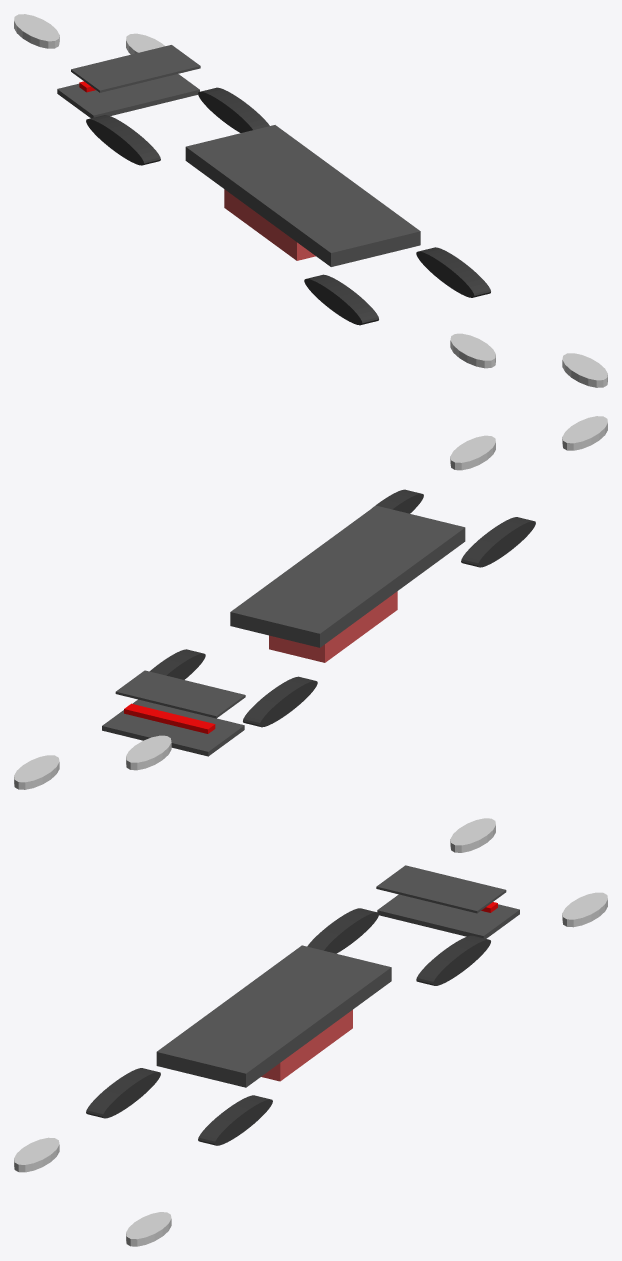
File: gt3_car.glb
3 views of the same model, one above another, from view 1: azimuth 30°, elevation 25°; view 2: azimuth 150°, elevation 25°; view 3: azimuth 330°, elevation 25° (orthographic).
Visible parts, largest first — view 1: Cockpit, Diffuser, Spoiler, Wheel_RL, Wheel_FL, Wheel_FR, Wheel_RR, Body, Rim_0, Rim_1, Rim_2, Rim_3; view 2: Cockpit, Diffuser, Spoiler, Body, Wheel_FL, Wheel_RL, Rim_1, Rim_2, Rim_0, Rim_3, BrakeLight, Wheel_RR (+1 smaller); view 3: Cockpit, Diffuser, Spoiler, Wheel_RR, Wheel_FL, Wheel_FR, Wheel_RL, Body, Rim_1, Rim_2, Rim_0, Rim_3.
Part boxes in pixels (x1,y1,x2,y2): Cockpit: [185, 125, 420, 266]; Diffuser: [57, 74, 199, 118]; Spoiler: [71, 45, 200, 92]; Wheel_RL: [86, 115, 160, 165]; Wheel_FL: [304, 274, 378, 325]; Wheel_FR: [416, 247, 490, 297]; Wheel_RR: [198, 87, 269, 132]; Body: [224, 189, 315, 260]; Rim_0: [450, 333, 495, 368]; Rim_1: [562, 353, 607, 387]; Rim_2: [14, 14, 59, 48]; Rim_3: [126, 33, 164, 54]; Cockpit: [230, 505, 465, 647]; Diffuser: [102, 699, 244, 756]; Spoiler: [115, 670, 245, 718]; Body: [269, 591, 397, 662]; Wheel_FL: [461, 517, 535, 567]; Wheel_RL: [243, 676, 317, 727]; Rim_1: [450, 435, 495, 470]; Rim_2: [126, 735, 171, 770]; Rim_0: [562, 416, 607, 450]; Rim_3: [14, 755, 59, 789]; BrakeLight: [124, 703, 215, 733]; Wheel_RR: [149, 649, 205, 679]; Cockpit: [156, 945, 391, 1087]; Diffuser: [377, 894, 519, 938]; Spoiler: [376, 865, 506, 913]; Wheel_RR: [416, 935, 490, 985]; Wheel_FL: [86, 1068, 160, 1118]; Wheel_FR: [198, 1095, 272, 1145]; Wheel_RL: [307, 908, 378, 953]; Body: [261, 1010, 352, 1081]; Rim_1: [126, 1212, 171, 1246]; Rim_2: [450, 818, 495, 852]; Rim_0: [14, 1137, 59, 1172]; Rim_3: [562, 892, 607, 927].
Size of the model in its own units: 5.6 by 1.89 by 29.25.
